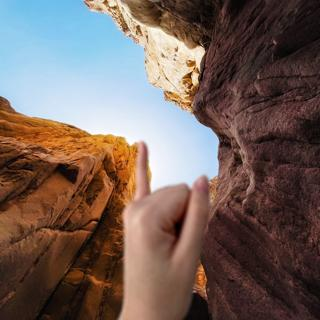Fine: (111, 132, 219, 314)
